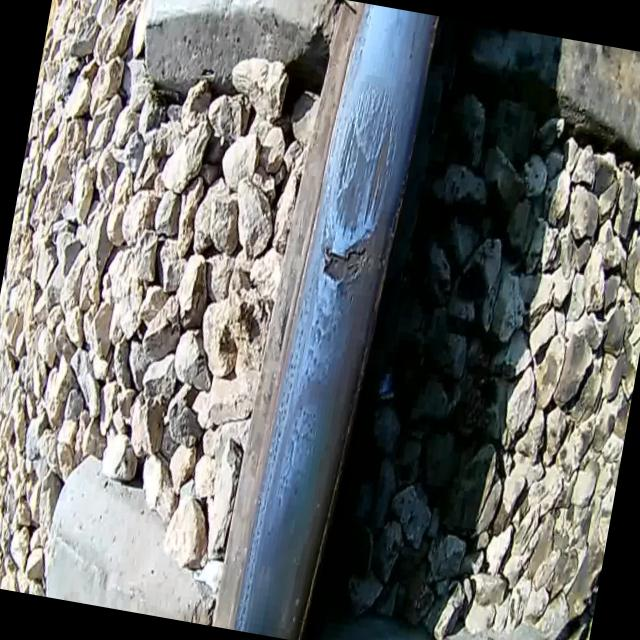Spallings: (314, 232, 378, 293)
Squats: (316, 71, 414, 280)
